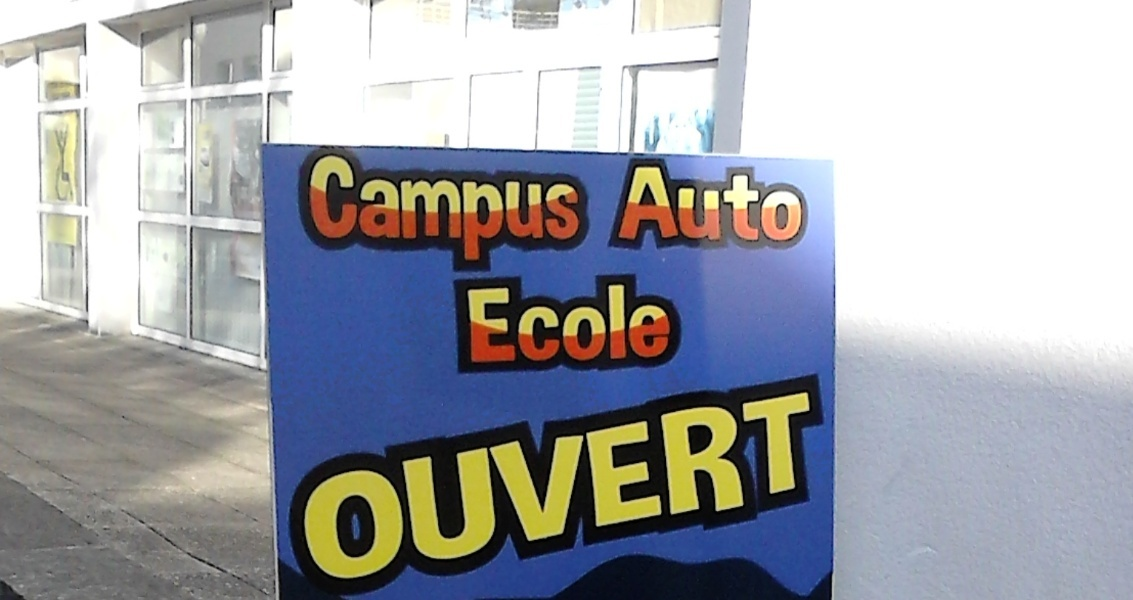text: (305, 388, 320, 586), (321, 388, 336, 586), (337, 388, 352, 586), (353, 388, 368, 586), (369, 388, 384, 586), (385, 388, 400, 586), (401, 388, 416, 586), (417, 388, 432, 586), (433, 388, 448, 586), (449, 388, 464, 586), (465, 388, 480, 586), (481, 388, 496, 586), (497, 388, 512, 586), (513, 388, 528, 586), (529, 388, 544, 586), (545, 388, 560, 586), (561, 388, 576, 586), (577, 388, 592, 586), (593, 388, 608, 586), (609, 388, 624, 586), (625, 388, 640, 586), (641, 388, 656, 586), (657, 388, 672, 586), (673, 388, 688, 586), (689, 388, 704, 586), (705, 388, 720, 586), (721, 388, 736, 586), (737, 388, 752, 586), (753, 388, 768, 586), (769, 388, 784, 586), (785, 388, 800, 586), (801, 388, 816, 586), (305, 150, 320, 274), (321, 150, 336, 274), (337, 150, 352, 274), (353, 150, 368, 274), (369, 150, 384, 274), (385, 150, 400, 274), (401, 150, 416, 274), (417, 150, 432, 274), (433, 150, 448, 274), (449, 150, 464, 274), (465, 150, 480, 274), (481, 150, 496, 274), (497, 150, 512, 274), (513, 150, 528, 274), (529, 150, 544, 274), (545, 150, 560, 274), (561, 150, 576, 274), (465, 277, 480, 370), (481, 277, 496, 370), (497, 277, 512, 370), (513, 277, 528, 370), (529, 277, 544, 370), (545, 277, 560, 370), (561, 277, 576, 370), (577, 277, 592, 370), (593, 277, 608, 370), (609, 277, 624, 370), (625, 277, 640, 370), (641, 277, 656, 370), (657, 277, 672, 370), (297, 388, 304, 586), (625, 159, 640, 248), (641, 159, 656, 248), (657, 159, 672, 248), (673, 159, 688, 248), (689, 159, 704, 248), (705, 159, 720, 248), (721, 159, 736, 248), (737, 159, 752, 248), (753, 159, 768, 248), (769, 159, 784, 248), (785, 159, 800, 248), (817, 388, 822, 586), (577, 150, 584, 274), (300, 150, 304, 274), (801, 159, 805, 248), (461, 277, 464, 370), (673, 277, 676, 370), (623, 159, 624, 248)
